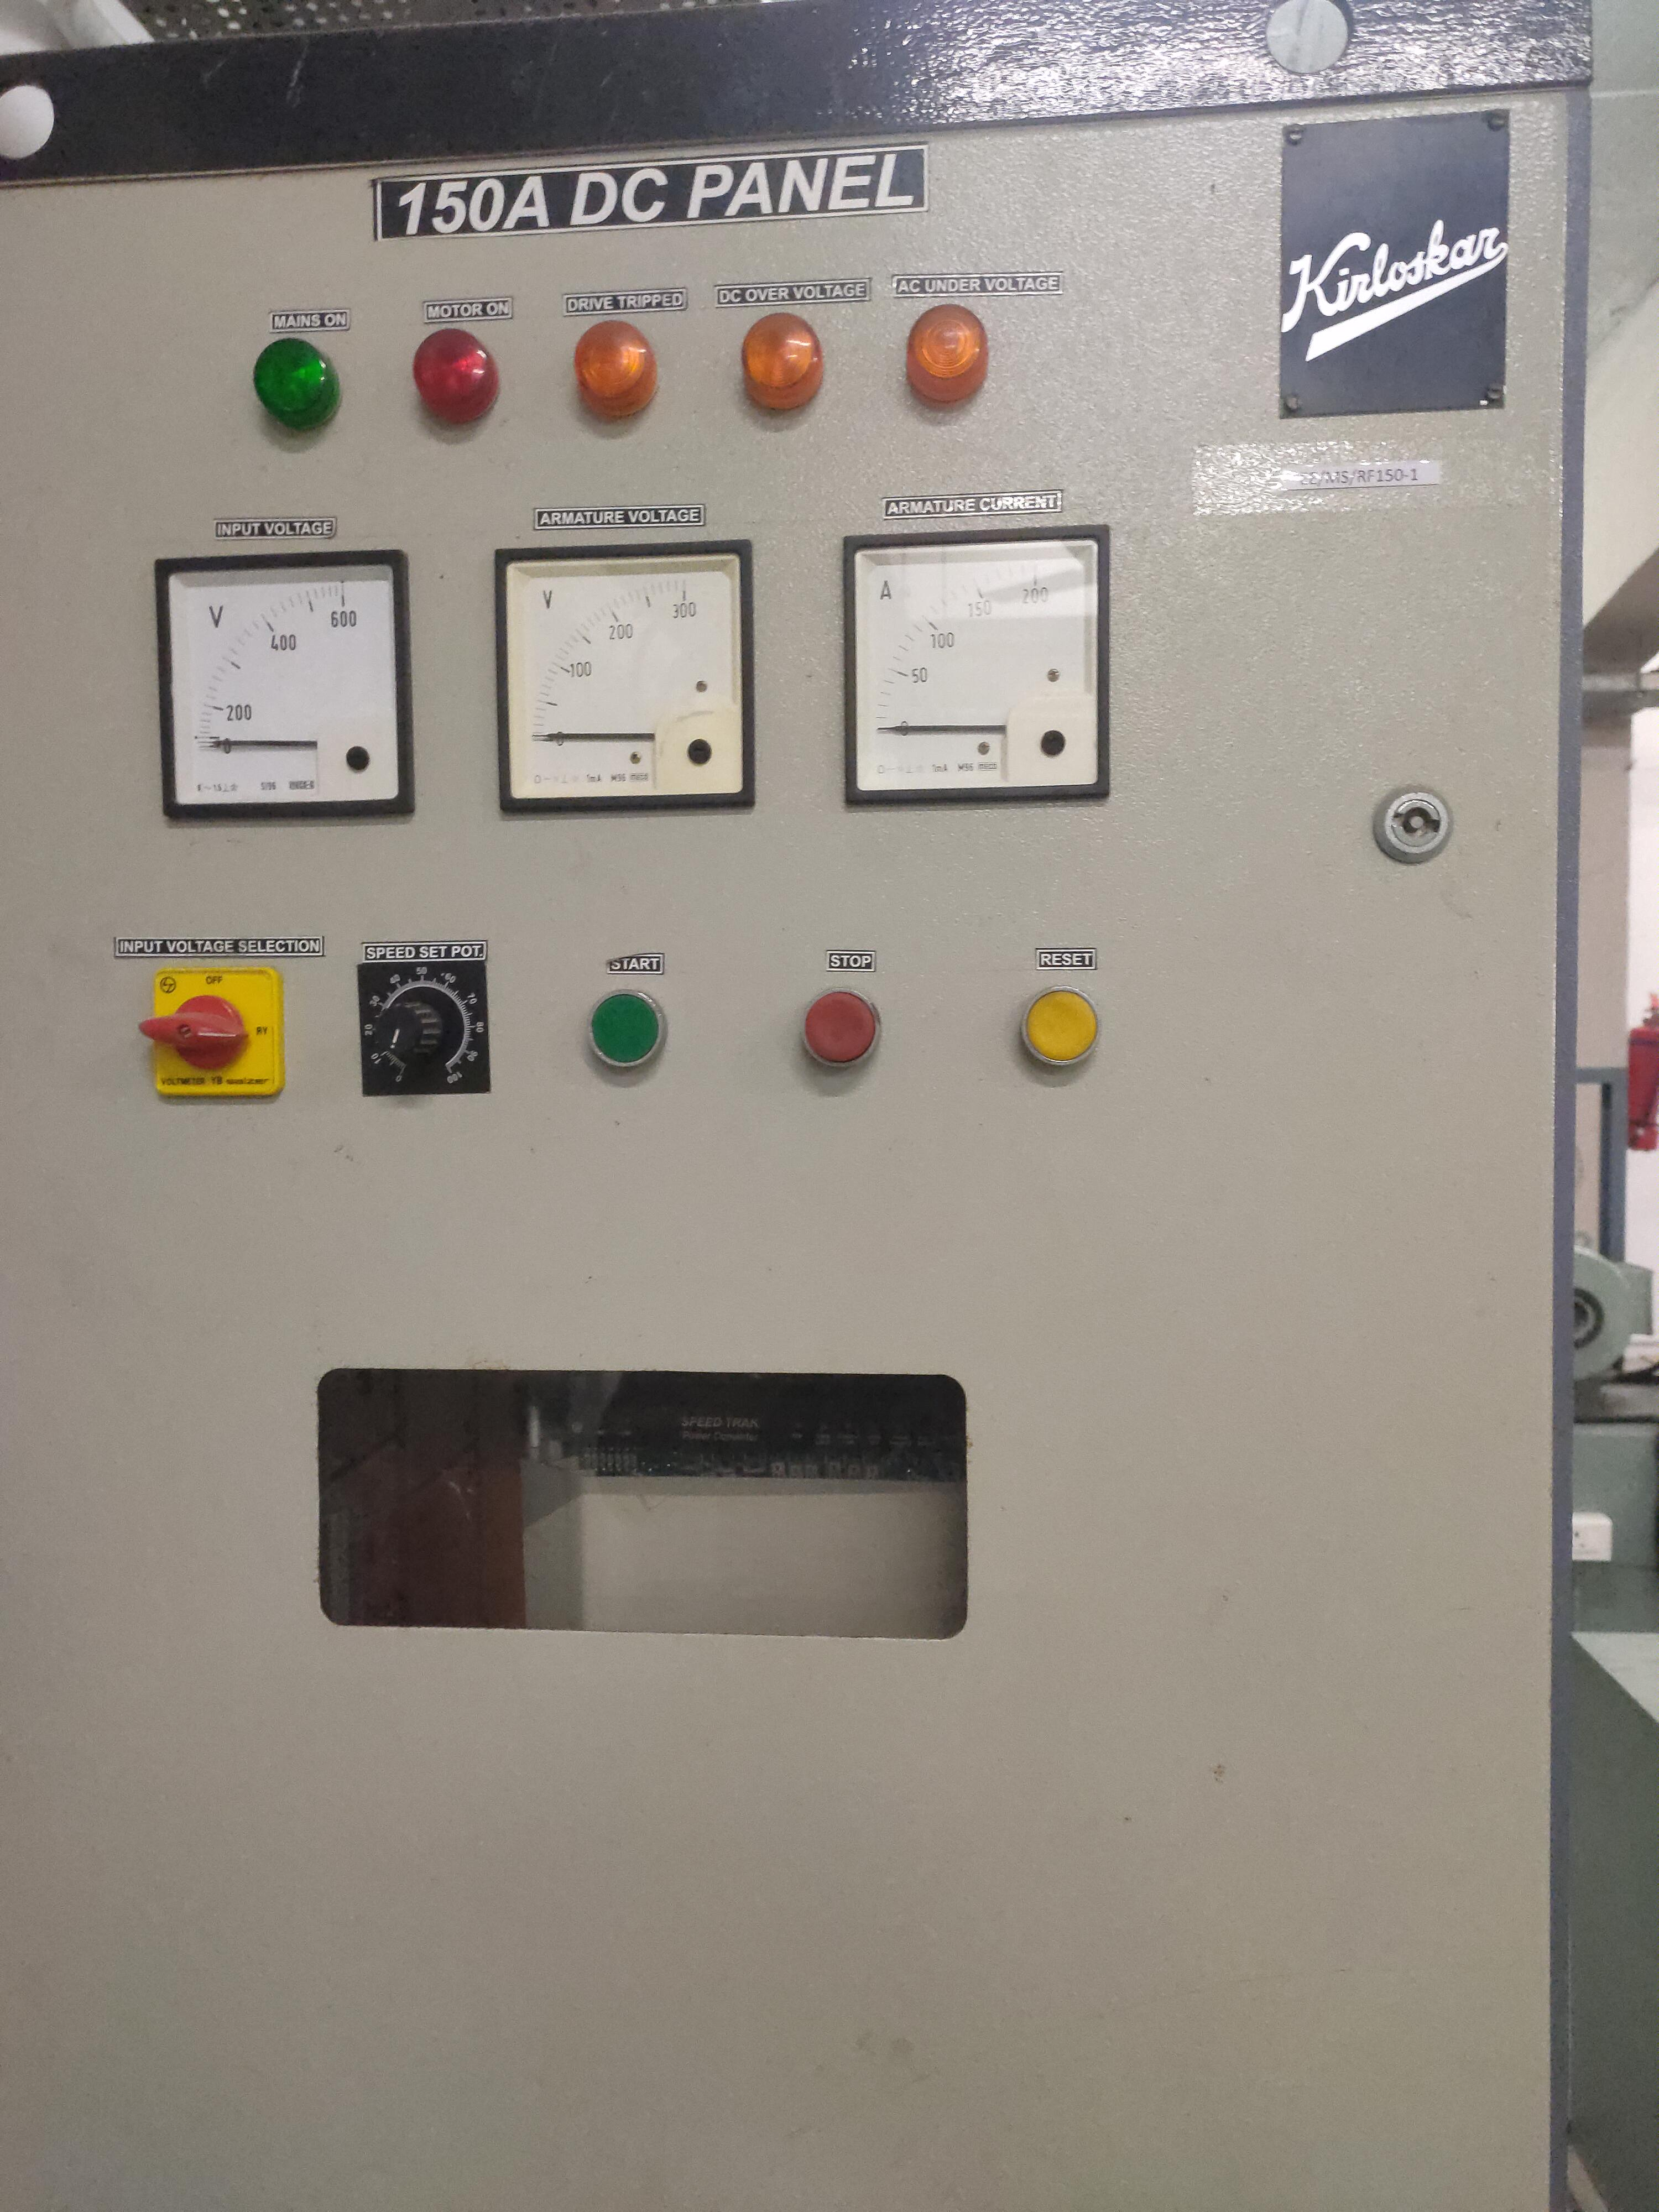Light Indications: (195, 268, 1023, 467)
